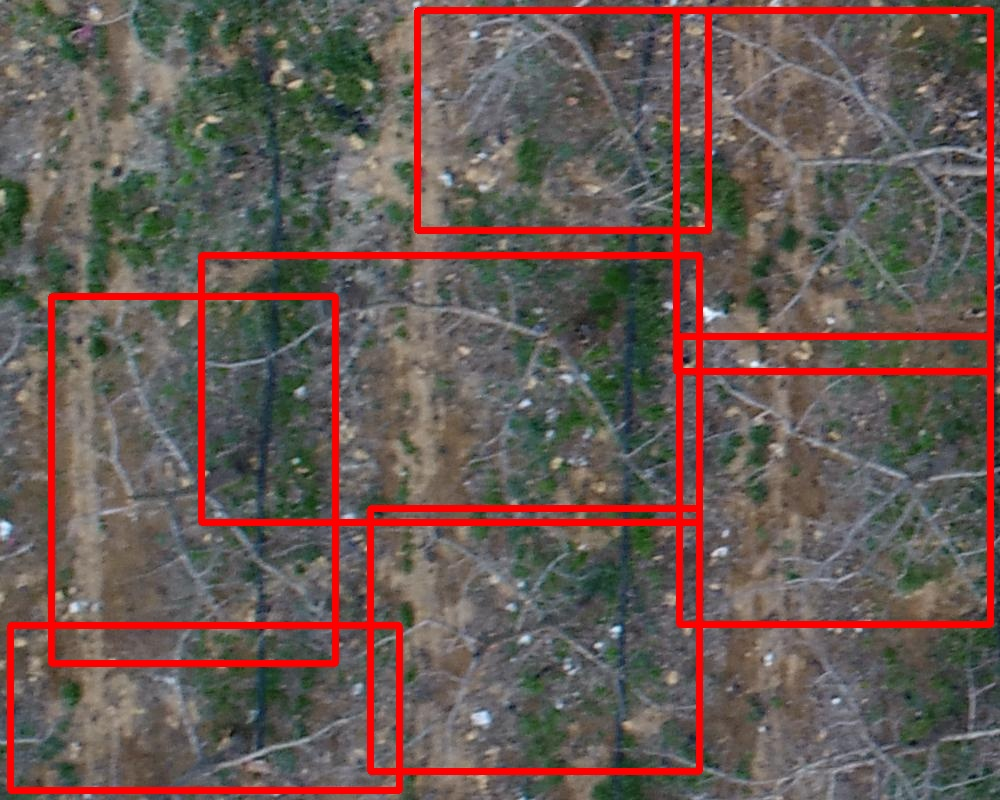apple: (201, 255, 699, 522), (676, 10, 990, 371), (51, 296, 335, 663), (679, 336, 990, 624), (370, 508, 699, 771), (10, 625, 399, 790), (417, 10, 708, 230)
